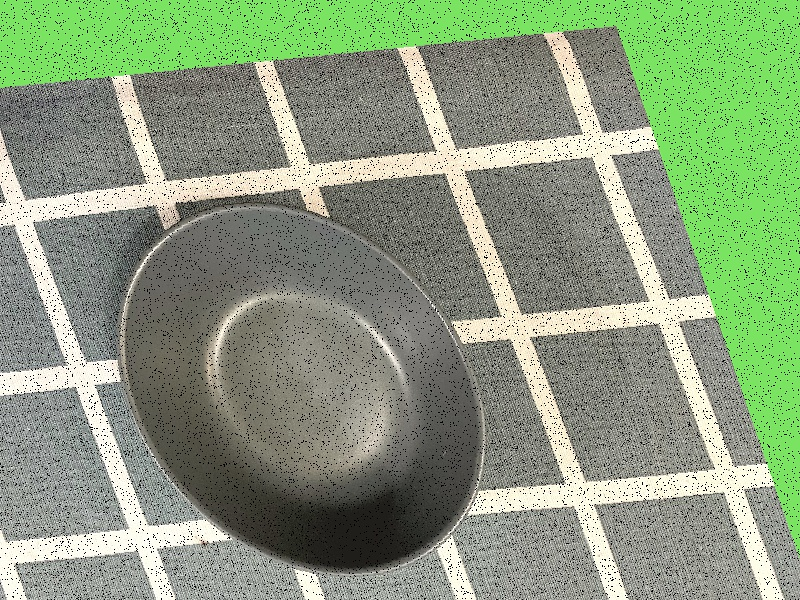bowl_big: (37, 170, 550, 599)
